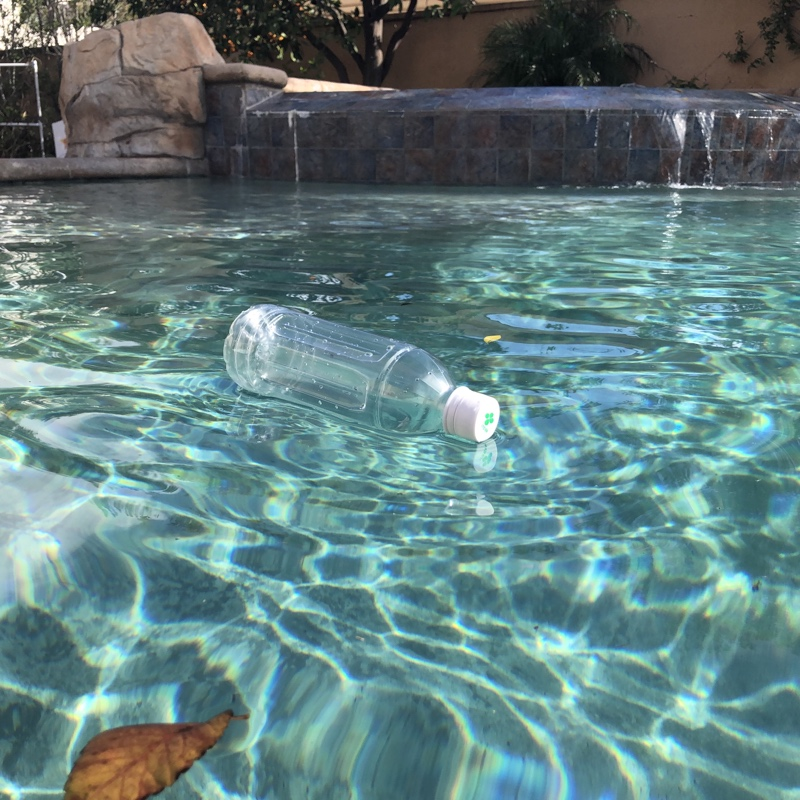Plastic Bottle: (222, 300, 501, 444)
